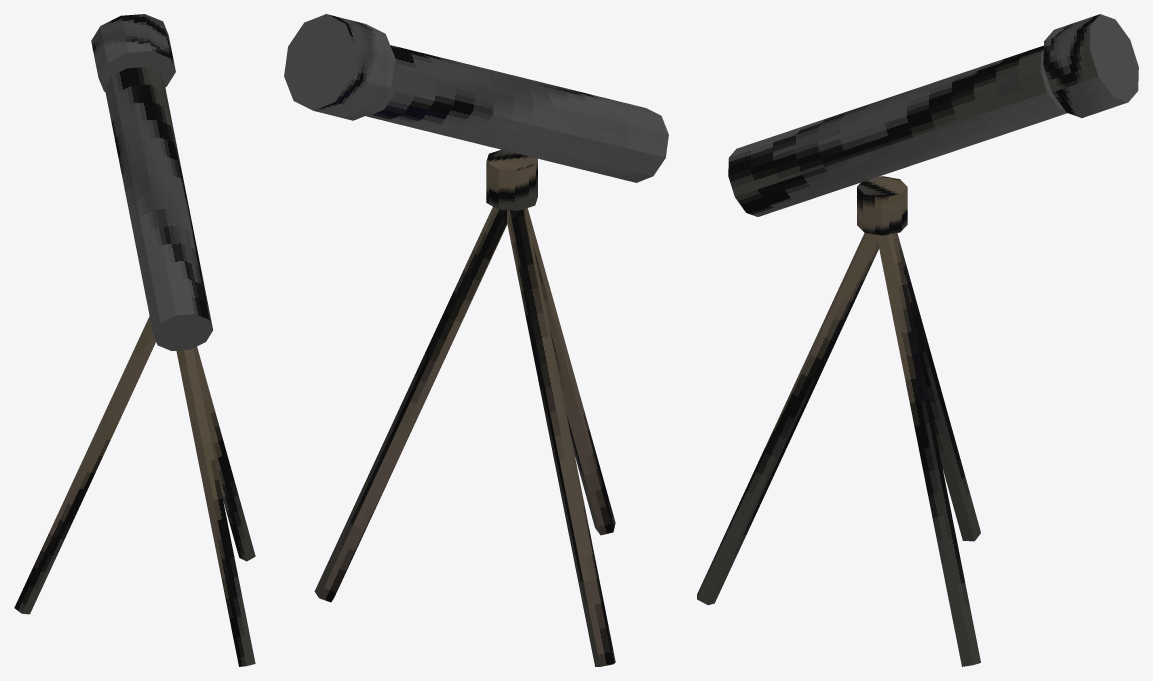
The model's file is Building_Telescope.glb.
3 views of the same model, side by side, from view 1: azimuth 30°, elevation 25°; view 2: azimuth 150°, elevation 25°; view 3: azimuth 270°, elevation 25° (orthographic). The views are drawn at different scales.
Parts seen in each view (by area): view 1: Telescope; view 2: Telescope; view 3: Telescope.
Part boxes in pixels (<box>): Telescope: <box>14,14,255,666</box>; Telescope: <box>284,14,668,666</box>; Telescope: <box>697,14,1138,666</box>.
Bounding box in the file's own units: 0.7724 × 1.6 × 1.05.
1 material, 1 textured.
